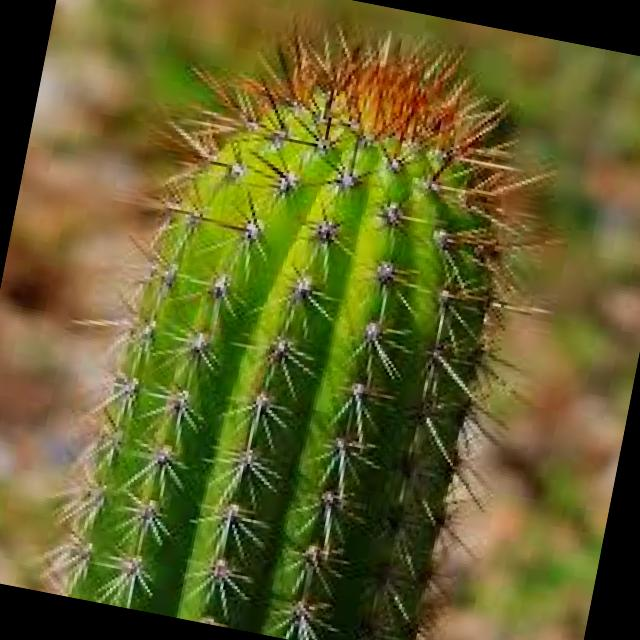cactus: (7, 0, 612, 640)
